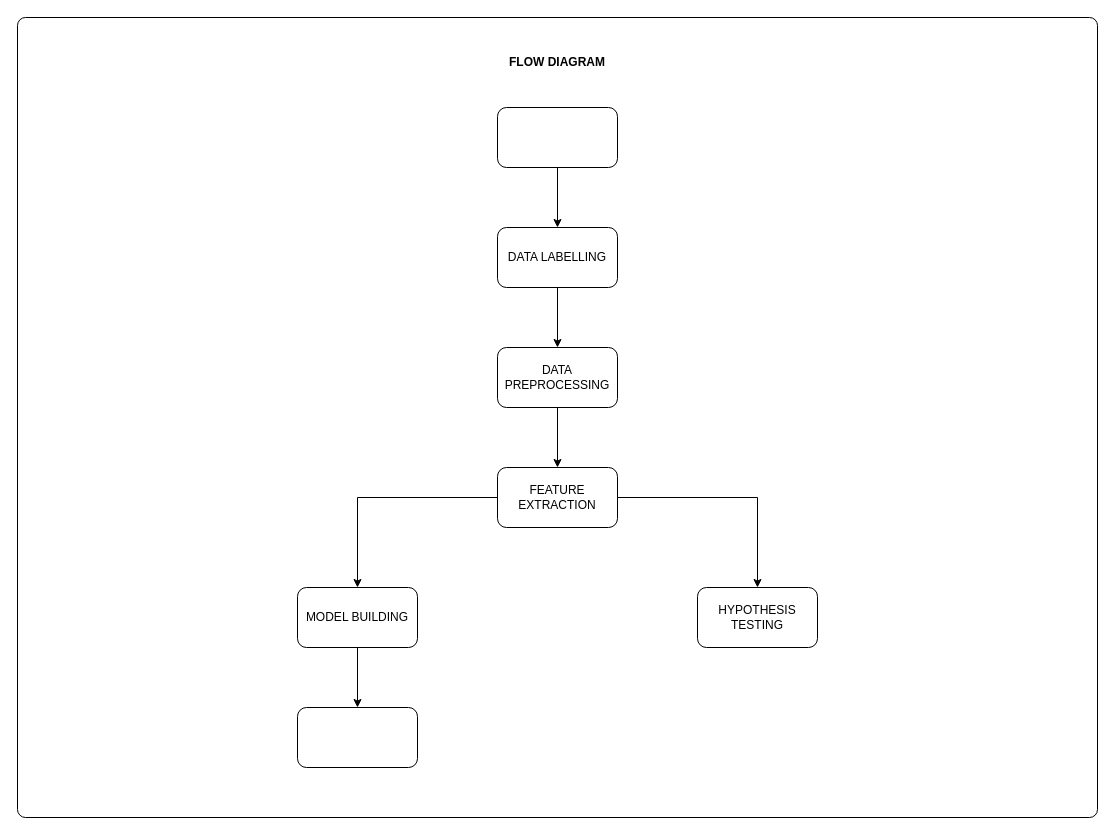
This 1115x835 diagram has some shape labels left out. Here are the shapes that lost their labels. From the top down, the centre of each, then its label:
the point at 557,137: DATA COLLECTION
the point at 357,737: MODEL TESTING
